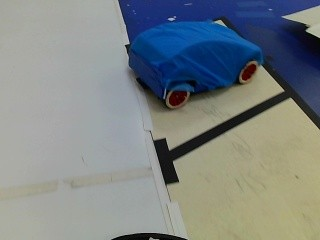car: (115, 15, 271, 113)
